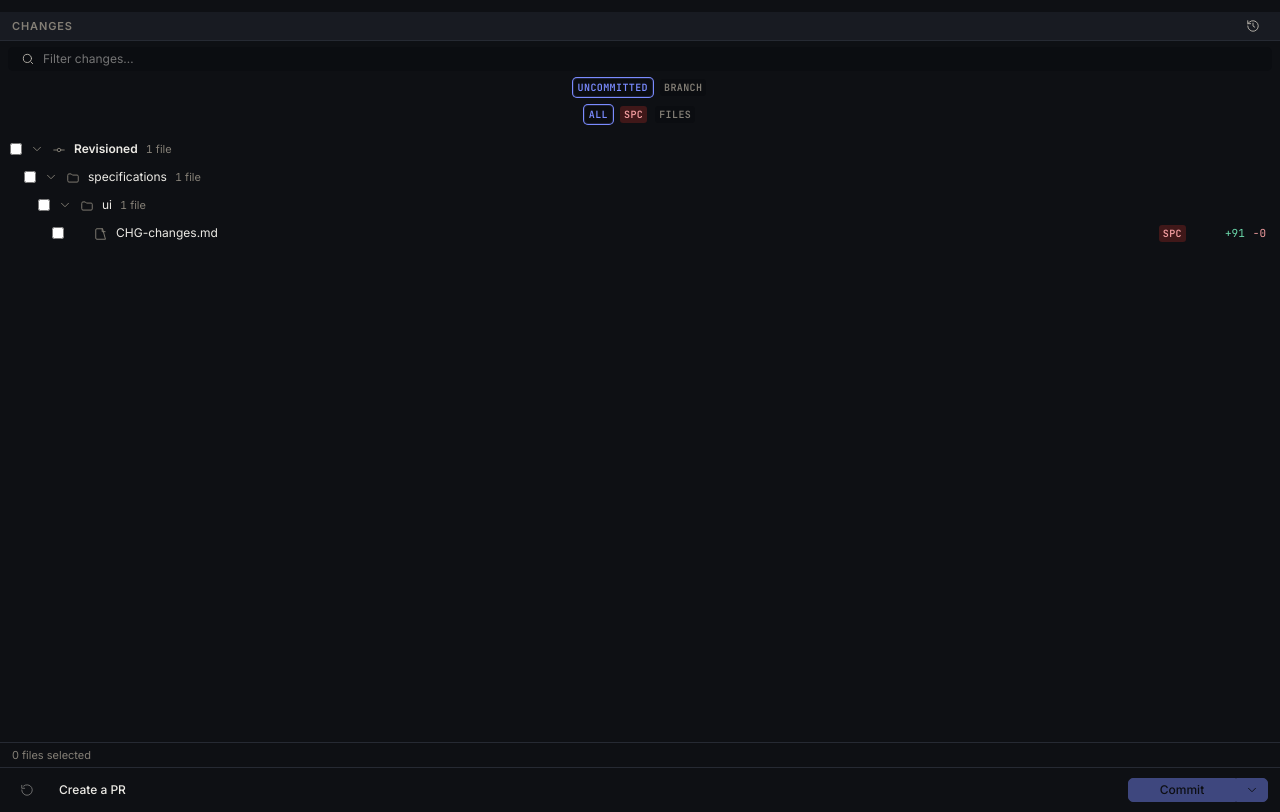
it: folder and group counts (CHG-FR-50..FR-53) › counts what is visible, not what is checked (CHG-FR-52 / CHG-FR-29)
Click the radio button labelled "Files": point(675, 114) [653,104,697,125]
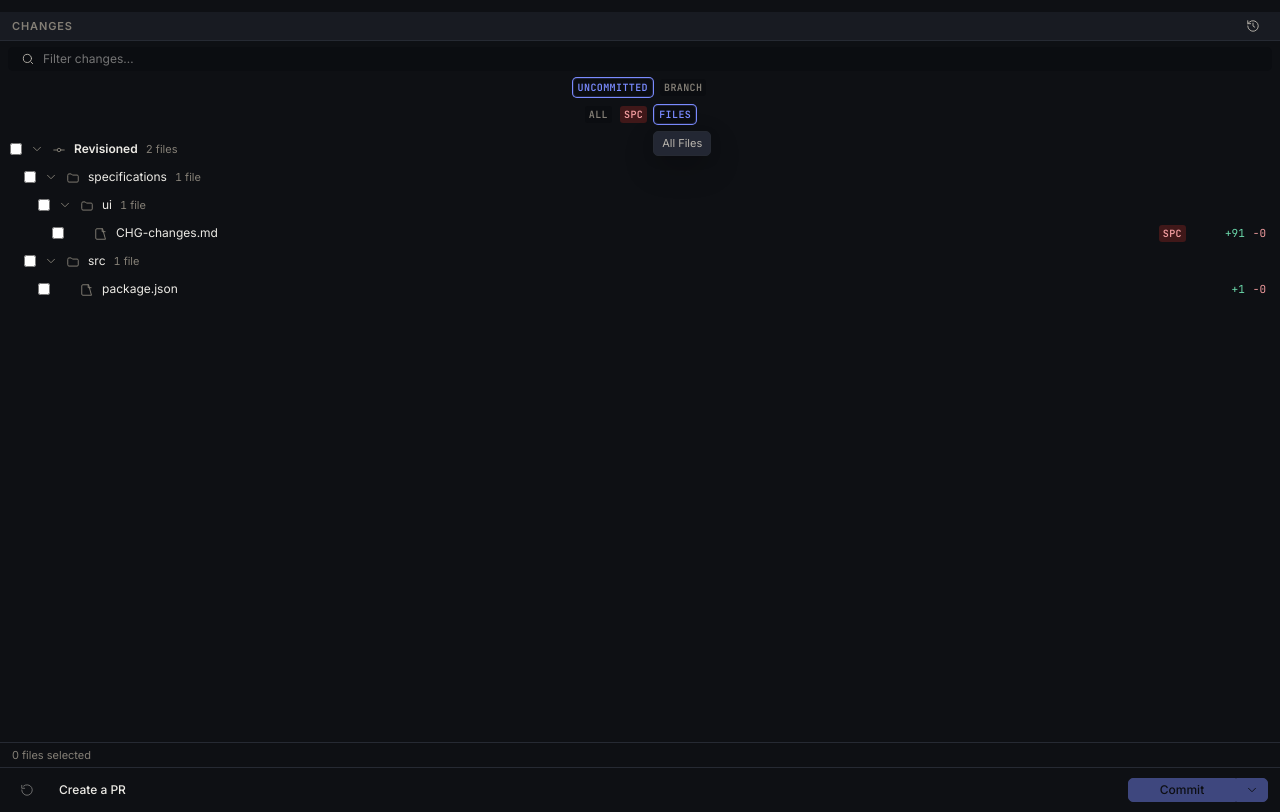
Result: the text "package.json" is shown at [102,281,178,296]
Click the checkbox named "Include src/package.json": point(44, 289) [38,283,50,295]
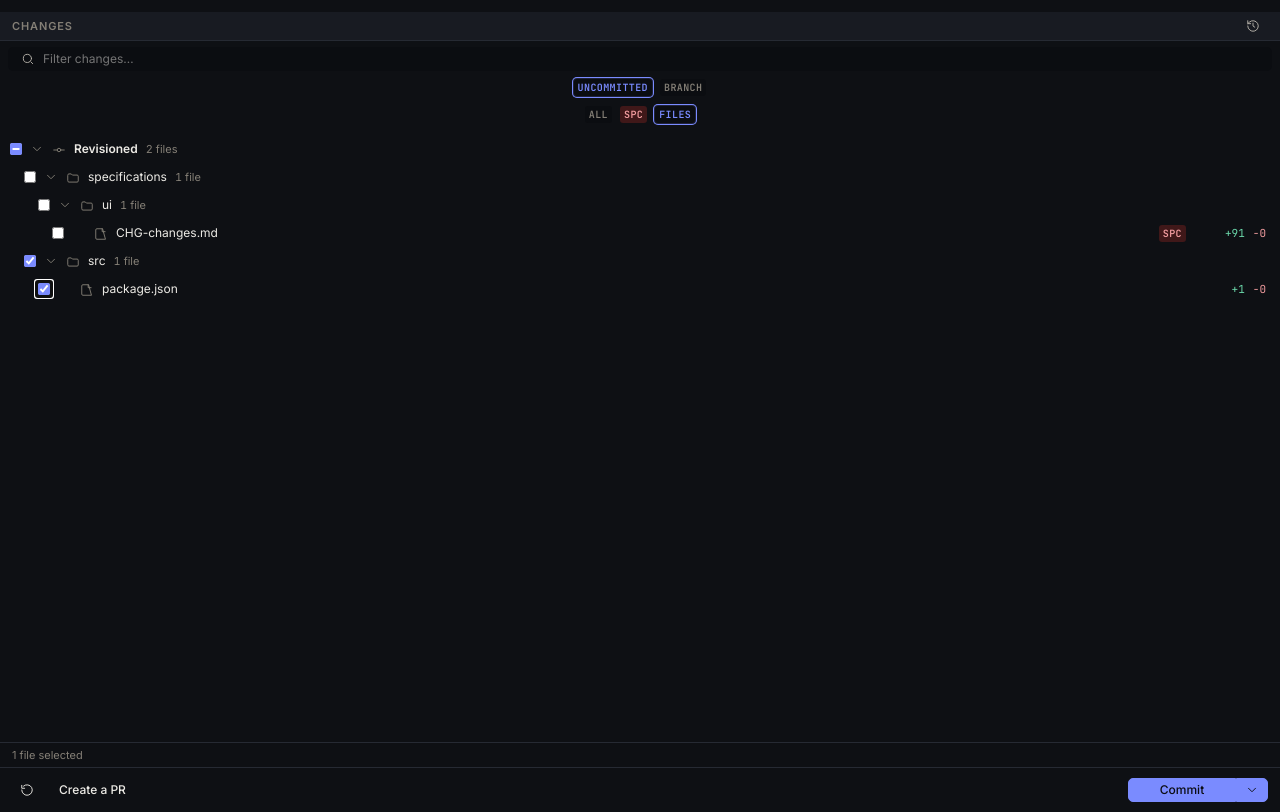
Result: the text with class "tree-row__count" reads "2 files" at [146,141,177,157]
Click the radio button labelled "All": point(598, 114) [583,104,614,125]
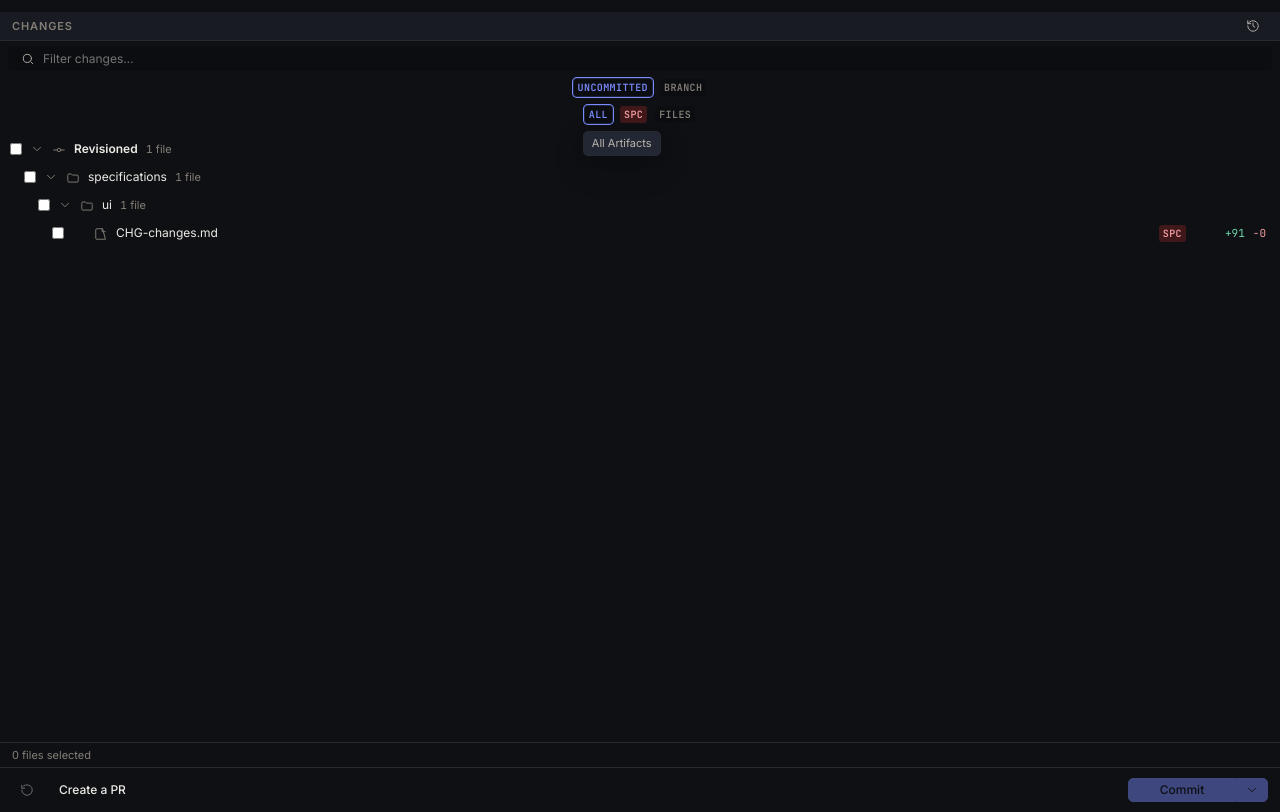
Result: the text with class "tree-row__count" next to "Revisioned" reads "1 file" at [146,141,172,157]
Result: the text "0 files selected" is shown at [0,742,1279,767]
